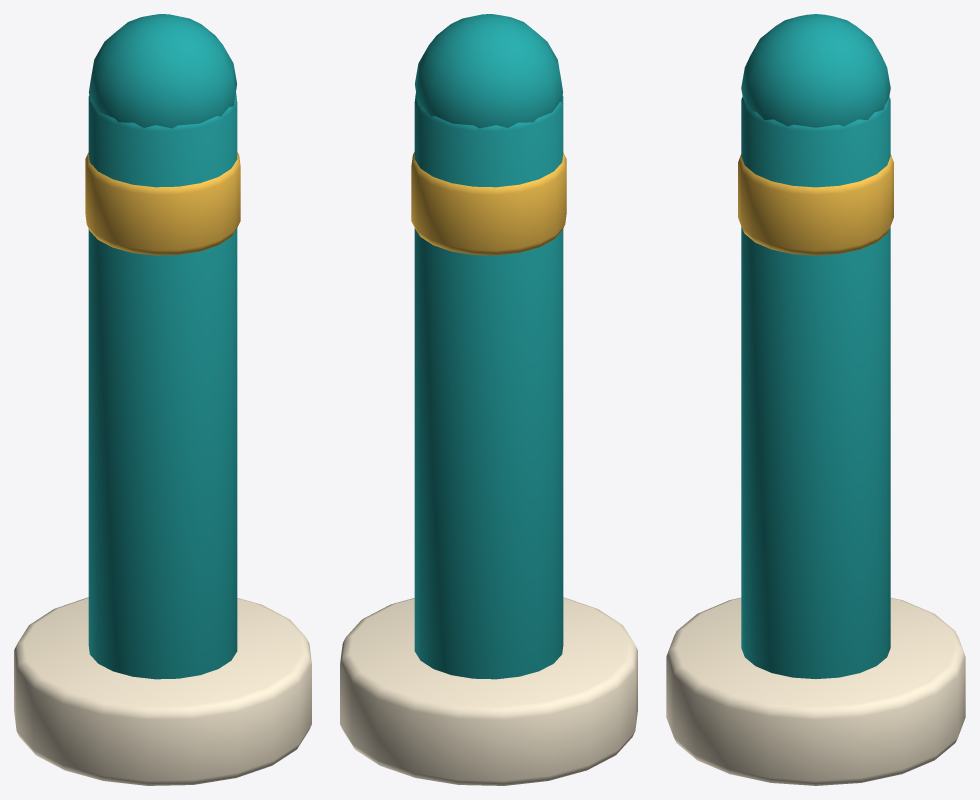
The model's file is Bollard.fbx.
The picture shows the model from 3 angles, left to right: view 1: azimuth 30°, elevation 25°; view 2: azimuth 150°, elevation 25°; view 3: azimuth 270°, elevation 25°; orthographic projection.
Parts seen in each view (by area): view 1: GEO-Bollard, GEO-BollardBase, GEO-BollardTop, GEO-BollardStripe; view 2: GEO-Bollard, GEO-BollardBase, GEO-BollardTop, GEO-BollardStripe; view 3: GEO-Bollard, GEO-BollardBase, GEO-BollardTop, GEO-BollardStripe.
Boxes of the visible parts, x1=… form: GEO-Bollard: x1=88, y1=93, x2=237, y2=679; GEO-BollardBase: x1=14, y1=597, x2=311, y2=785; GEO-BollardTop: x1=88, y1=14, x2=236, y2=128; GEO-BollardStripe: x1=85, y1=152, x2=240, y2=255; GEO-Bollard: x1=414, y1=93, x2=563, y2=679; GEO-BollardBase: x1=340, y1=597, x2=637, y2=785; GEO-BollardTop: x1=415, y1=14, x2=563, y2=128; GEO-BollardStripe: x1=411, y1=152, x2=566, y2=255; GEO-Bollard: x1=741, y1=97, x2=890, y2=678; GEO-BollardBase: x1=666, y1=597, x2=965, y2=785; GEO-BollardTop: x1=741, y1=14, x2=890, y2=127; GEO-BollardStripe: x1=738, y1=154, x2=893, y2=255.
Bounding box in the file's own units: 0.48 × 1.25 × 0.48.
